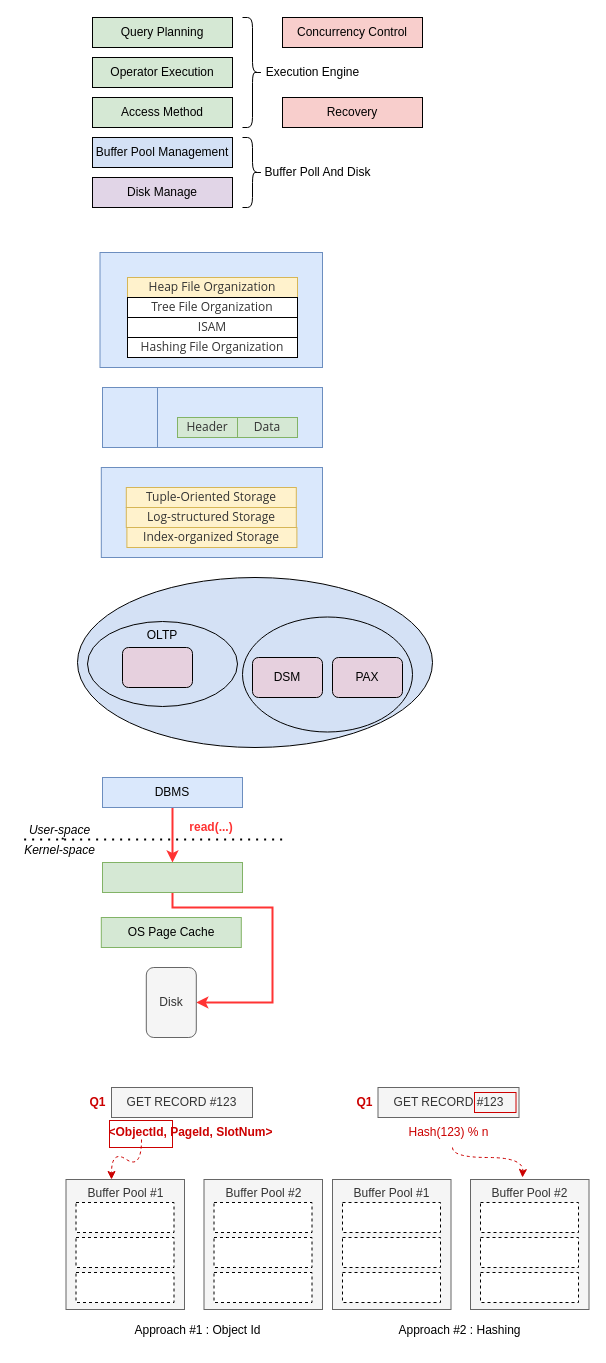
Some shapes in this 606 by 1363 pixel diagram are drawn without their labels. Here are the shapes that lost their labels. From the top down, the box of each, then its label:
(99, 252, 322, 368): File Storage
(102, 386, 158, 448): Page Directory
(156, 386, 322, 448): Page Layout
(100, 466, 322, 558): Data Storage
(122, 646, 192, 688): NSM
(76, 576, 432, 748): Work Load
(242, 616, 412, 732): OLAP
(102, 862, 242, 892): Filesystem
